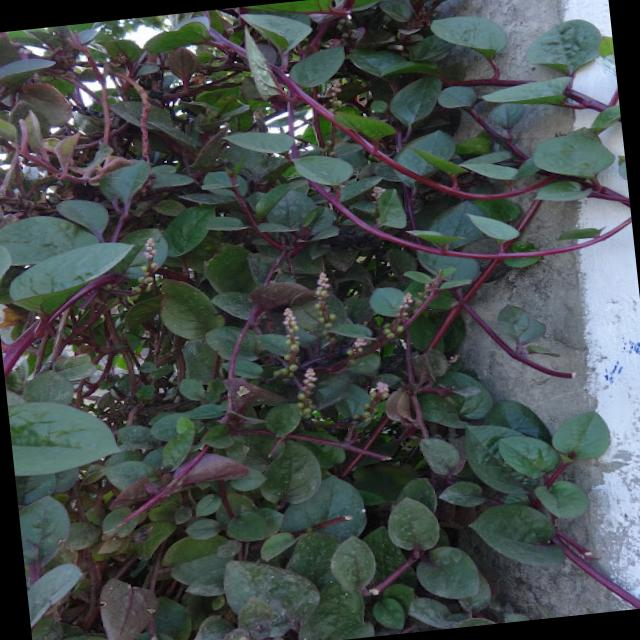Medicinal-Basale: (11, 49, 591, 640)
